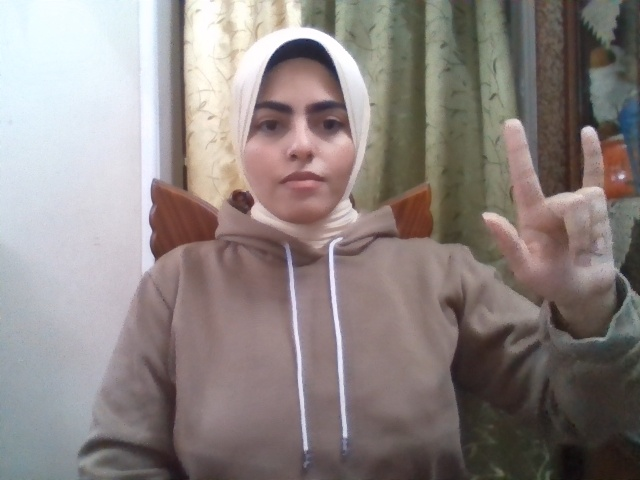iloveyou: (481, 119, 616, 318)
